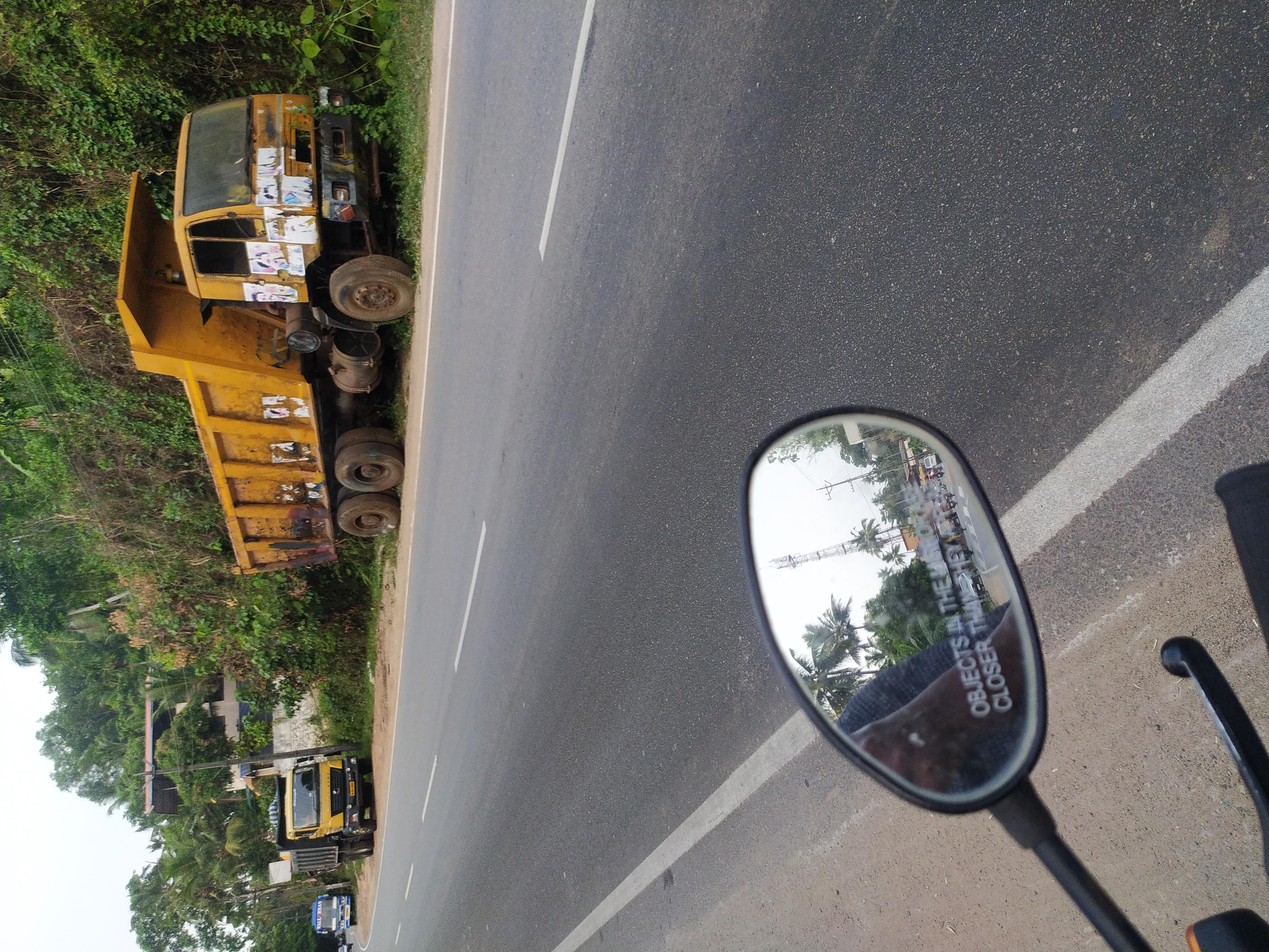License-Plate: (208, 262, 226, 266)
